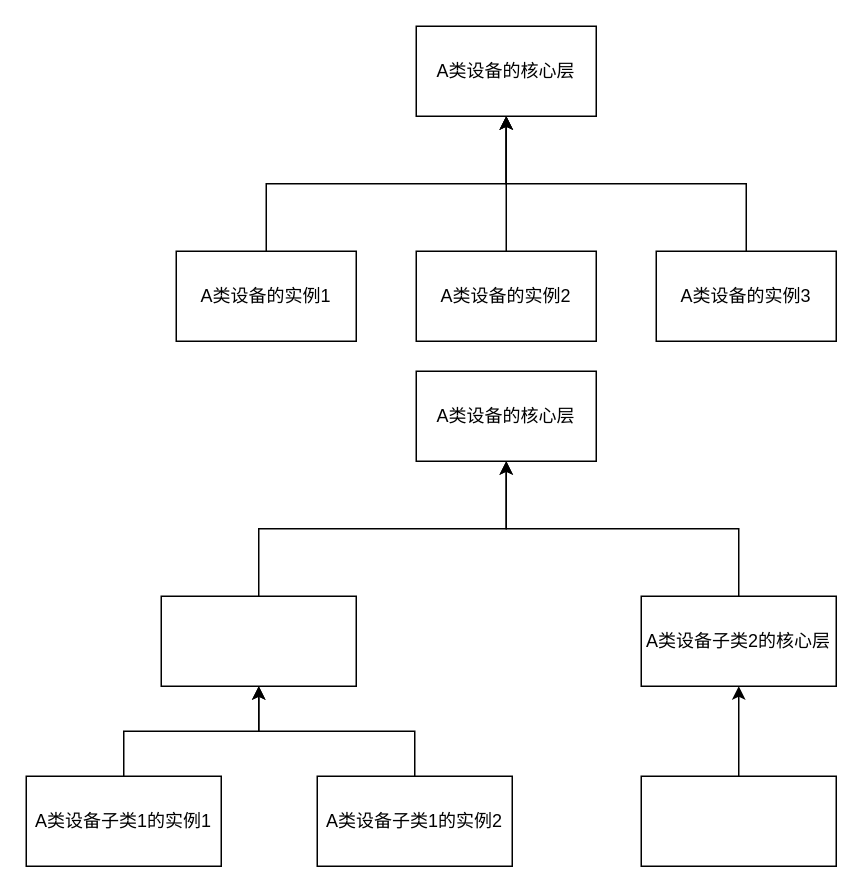
The diagram is 863 pixels wide and 893 high, and some of its shapes have lost their labels. The shapes that lost their labels are listed below. From the top down, each one's box as (x1, y1, x2, y2) in pixels, then its label:
(160, 595, 356, 686): A类设备子类1的核心层
(640, 775, 836, 866): A类设备子类2的实例1
